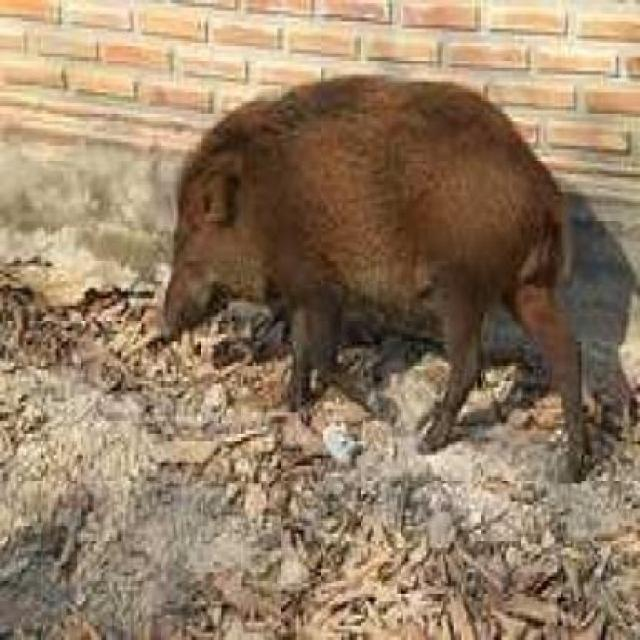pig: (109, 72, 639, 485)
